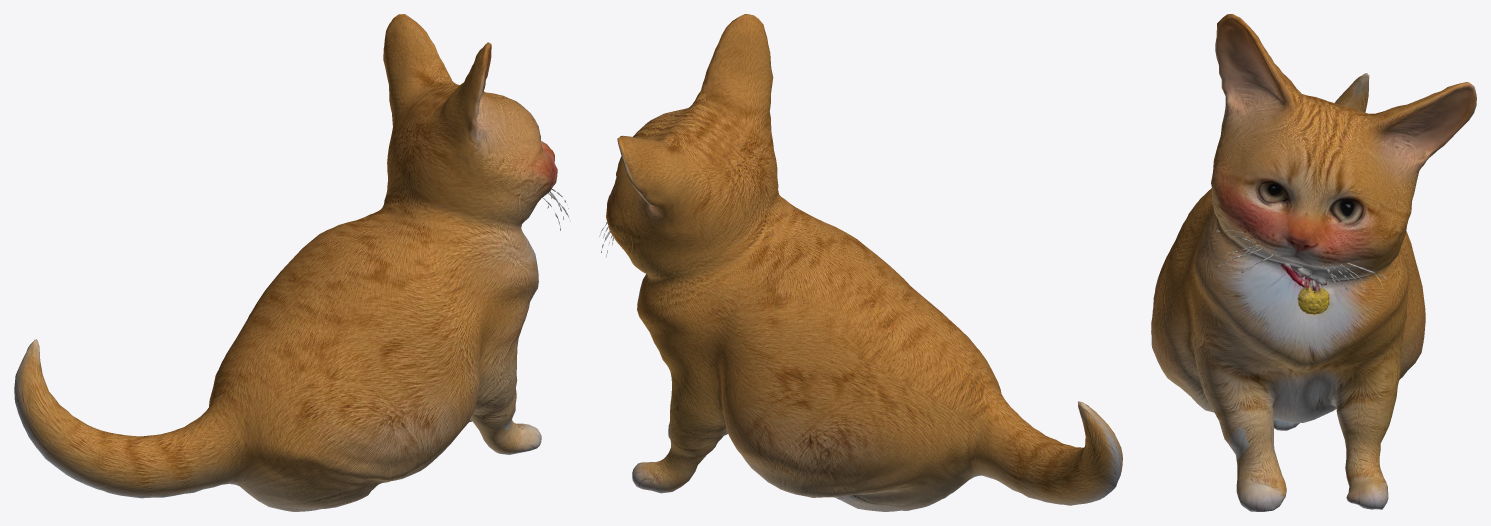
The model's file is blush-orange-cat.glb.
3 renders of one model, left to right at view 1: azimuth 30°, elevation 25°; view 2: azimuth 150°, elevation 25°; view 3: azimuth 270°, elevation 25°, orthographic. The views are drawn at different scales.
Parts seen in each view (by area): view 1: tripo_node_0624009d-1e1a-4aca-bb1c-fccd1acea94f; view 2: tripo_node_0624009d-1e1a-4aca-bb1c-fccd1acea94f; view 3: tripo_node_0624009d-1e1a-4aca-bb1c-fccd1acea94f.
Part boxes in pixels (x1,y1,x2,y2): tripo_node_0624009d-1e1a-4aca-bb1c-fccd1acea94f: (14,14,570,511); tripo_node_0624009d-1e1a-4aca-bb1c-fccd1acea94f: (599,14,1122,511); tripo_node_0624009d-1e1a-4aca-bb1c-fccd1acea94f: (1151,14,1476,511).
Bounding box in the file's own units: 1 × 0.8183 × 0.4987.
Materials: 1 (1 with a texture image).
